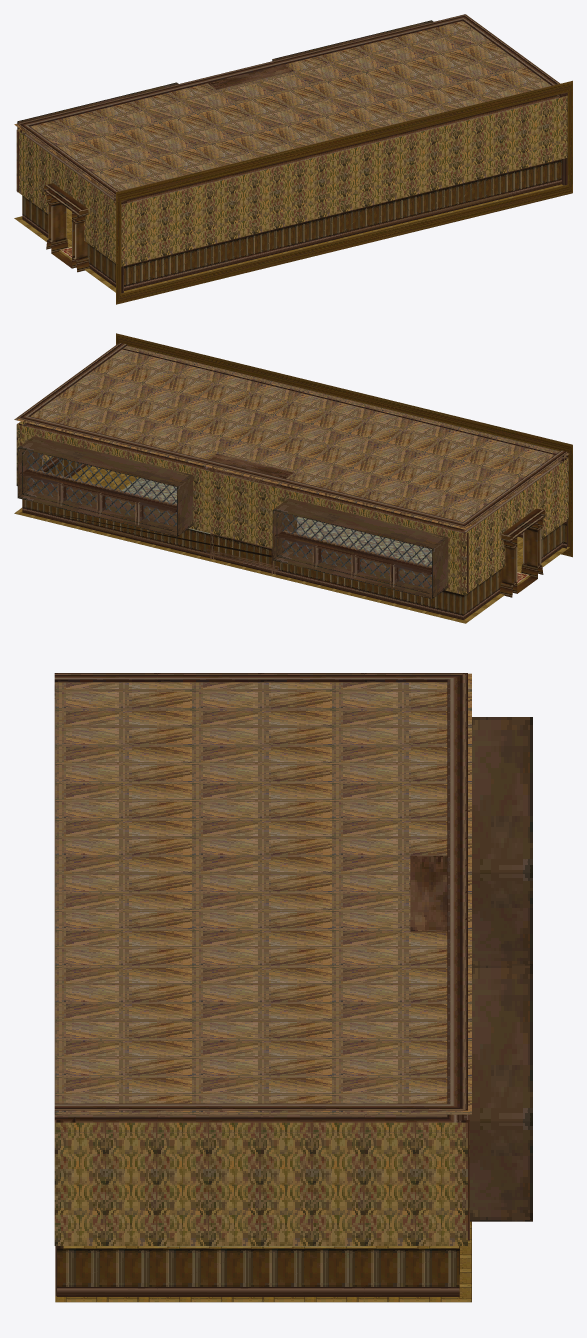
Rendered from room_46.glb.
3 views of the same model, one above another, from view 1: azimuth 30°, elevation 25°; view 2: azimuth 150°, elevation 25°; view 3: azimuth 270°, elevation 25° (orthographic). The views are drawn at different scales.
Parts seen in each view (by area): view 1: room_46; view 2: room_46; view 3: room_46.
Boxes of the visible parts, x1,y1,x2,y2 form: room_46: (14,14,572,304); room_46: (14,333,572,623); room_46: (54,673,532,1302).
Bounding box in the file's own units: 2575 × 600 × 1157.
20 materials, 20 textured.
